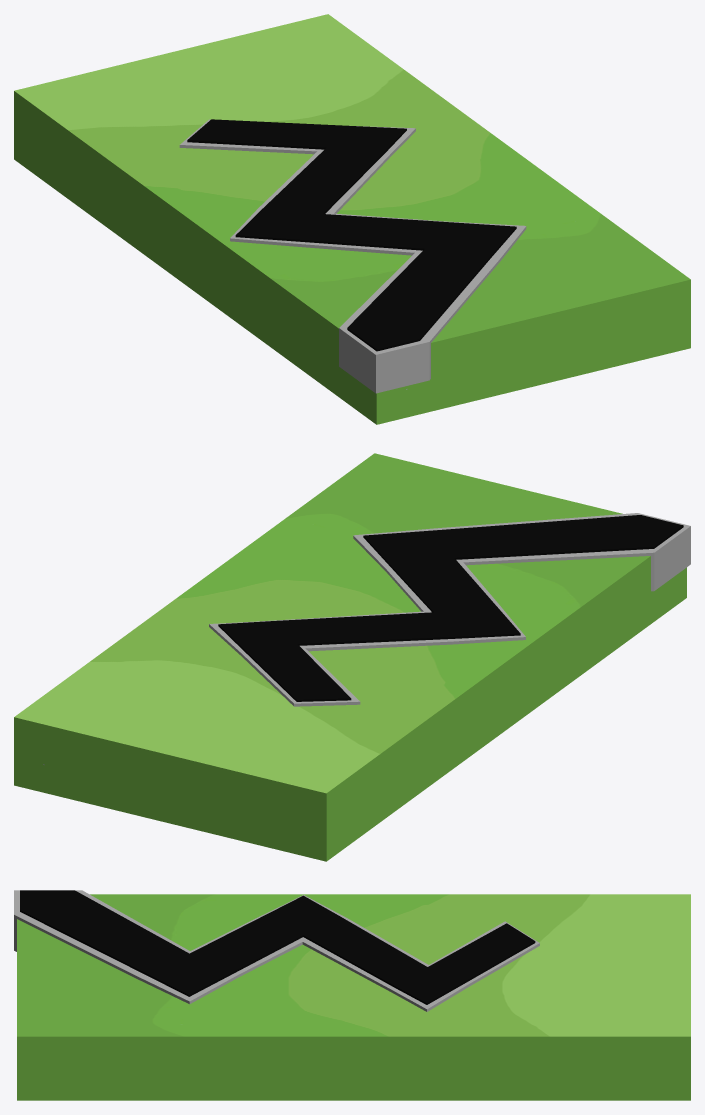
Rendered from Board.fbx.
3 renders of one model, top to bottom at view 1: azimuth 30°, elevation 25°; view 2: azimuth 150°, elevation 25°; view 3: azimuth 270°, elevation 25°, orthographic. The views are drawn at different scales.
Visible parts, largest first — view 1: Board, Road, Sides; view 2: Board, Road, Sides; view 3: Board, Road, Sides.
Boxes of the visible parts, bbox=[...] form: Board: bbox=[14, 14, 690, 424]; Road: bbox=[187, 119, 516, 351]; Sides: bbox=[179, 119, 526, 393]; Board: bbox=[14, 453, 686, 861]; Road: bbox=[218, 515, 683, 701]; Sides: bbox=[209, 513, 690, 706]; Board: bbox=[17, 894, 690, 1100]; Road: bbox=[20, 890, 535, 1004]; Sides: bbox=[14, 890, 539, 1011].
Bounding box in the file's own units: 2.69 × 0.5986 × 5.37.
